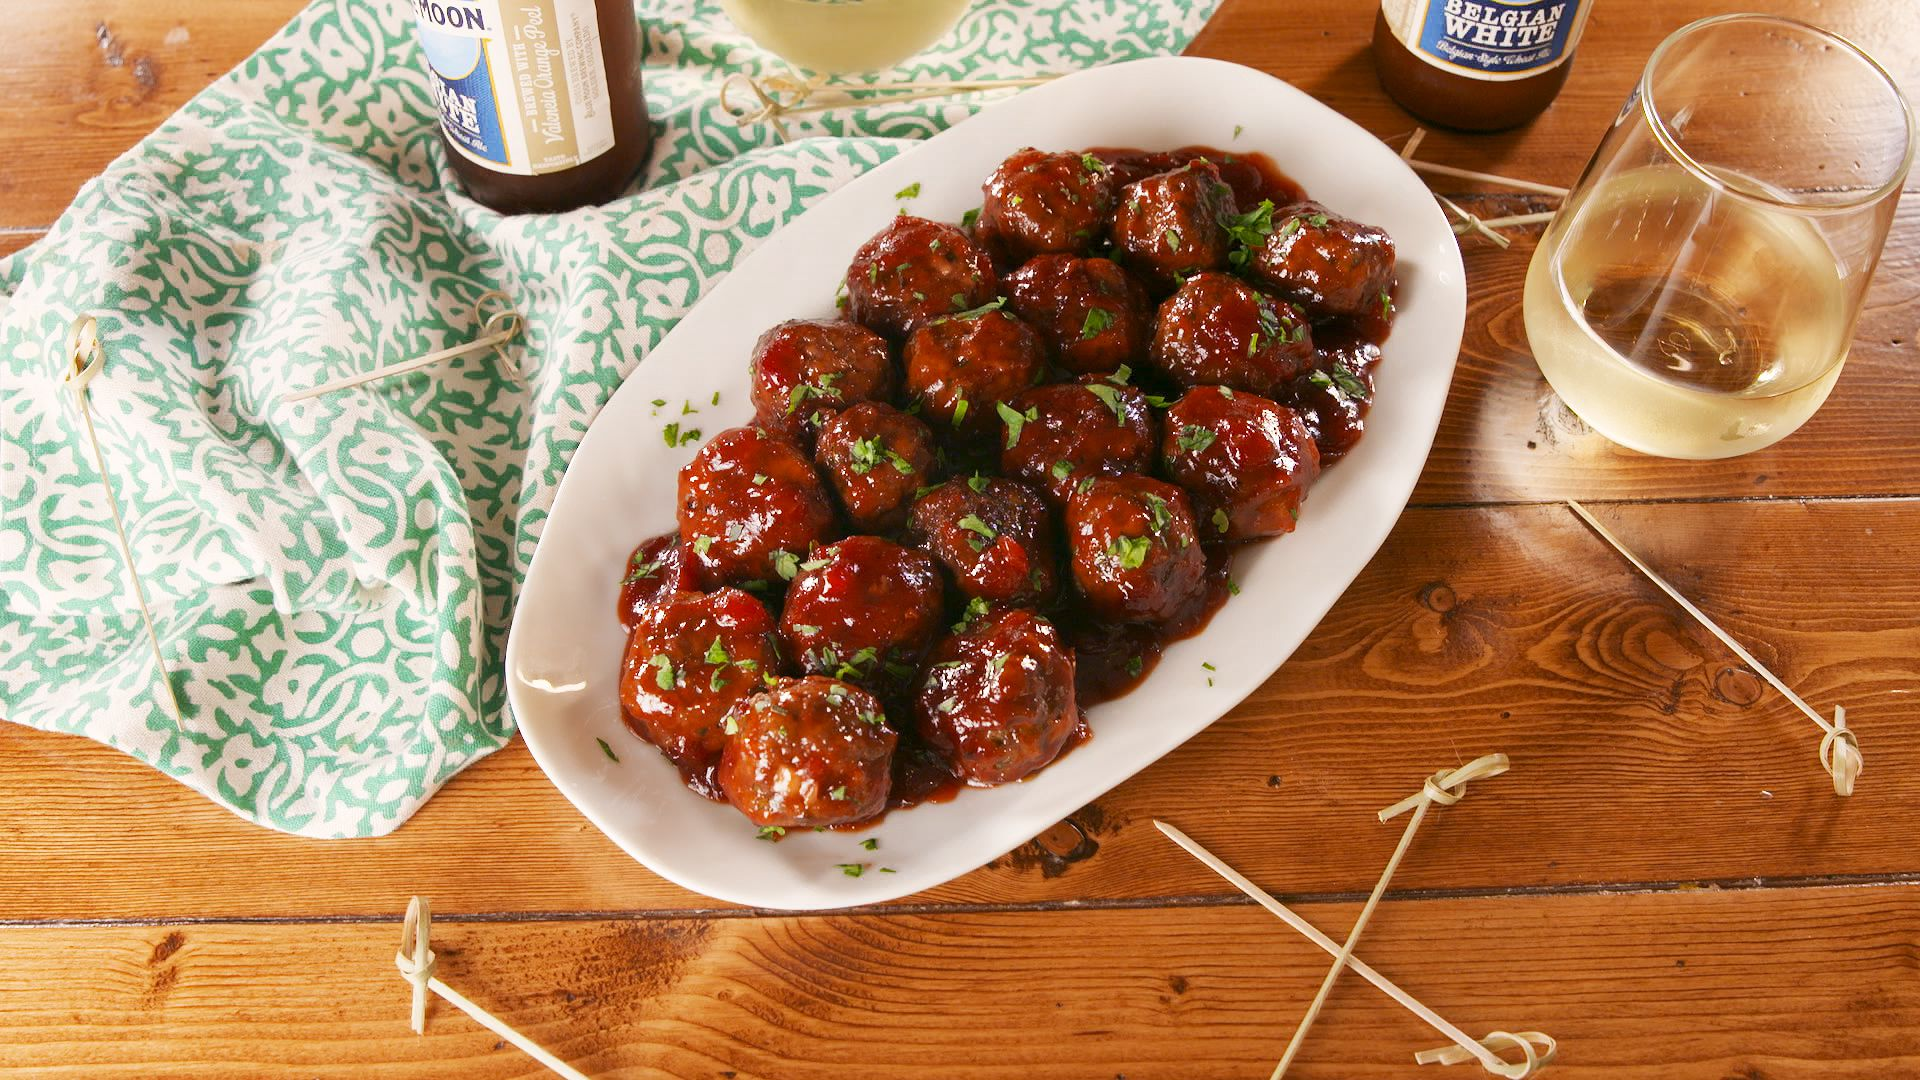meatballs: (860, 210, 1091, 750)
